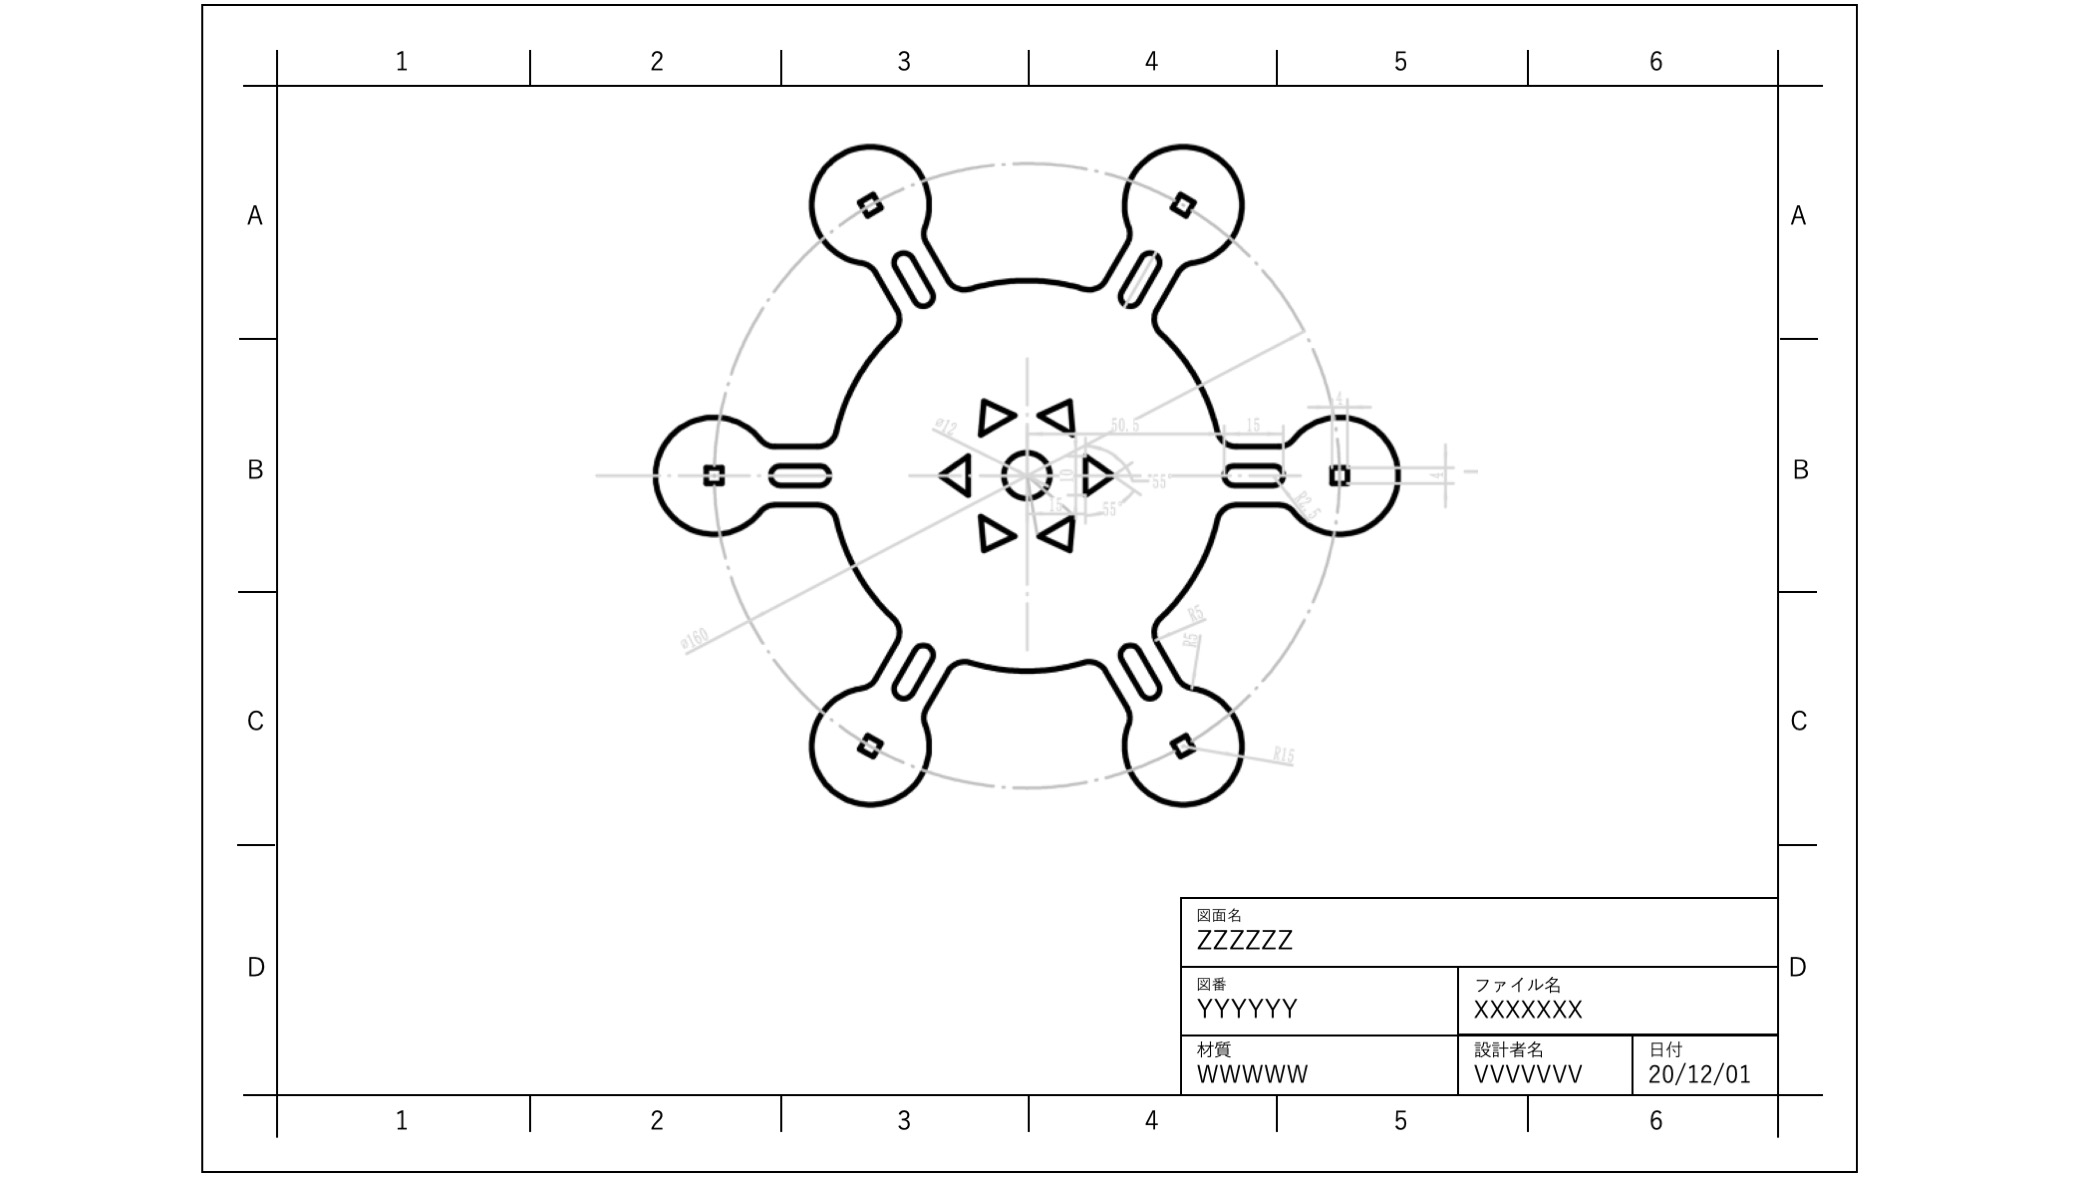circle: (1000, 446, 1063, 500)
rectangle: (1158, 187, 1200, 226), (855, 724, 888, 767), (847, 185, 886, 221), (695, 454, 731, 487), (1170, 725, 1199, 763), (1328, 451, 1354, 489)
round_rectangle: (1103, 640, 1173, 708), (886, 632, 939, 704), (1121, 241, 1165, 319), (1219, 454, 1302, 490), (884, 247, 937, 301), (766, 454, 844, 489)
triangle: (927, 447, 982, 505), (1038, 388, 1092, 437), (1033, 506, 1087, 552), (969, 505, 1020, 554), (971, 395, 1020, 443), (1080, 441, 1116, 497)
